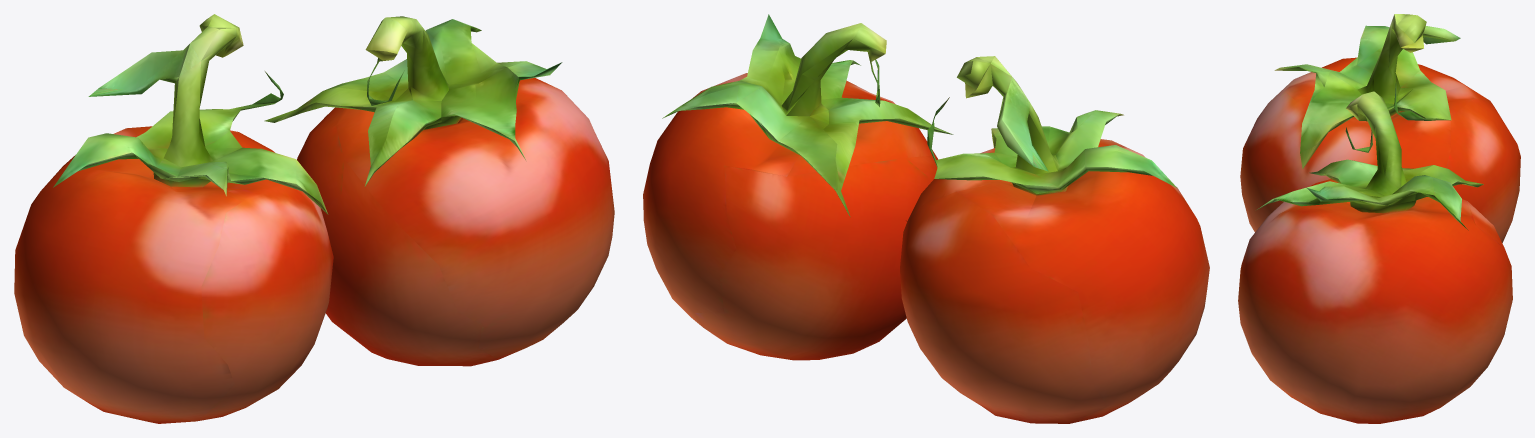
The model's file is tomato.glb.
3 renders of one model, left to right at view 1: azimuth 30°, elevation 25°; view 2: azimuth 150°, elevation 25°; view 3: azimuth 270°, elevation 25°, orthographic. The views are drawn at different scales.
Visible parts, largest first — view 1: model; view 2: model; view 3: model.
Boxes of the visible parts, left/top/right/bottom form: model: left=14, top=14, right=614, bottom=423; model: left=643, top=14, right=1209, bottom=423; model: left=1238, top=14, right=1520, bottom=423.
Bounding box in the file's own units: 1.9 × 1.2 × 1.01.
1 material, 1 textured.
